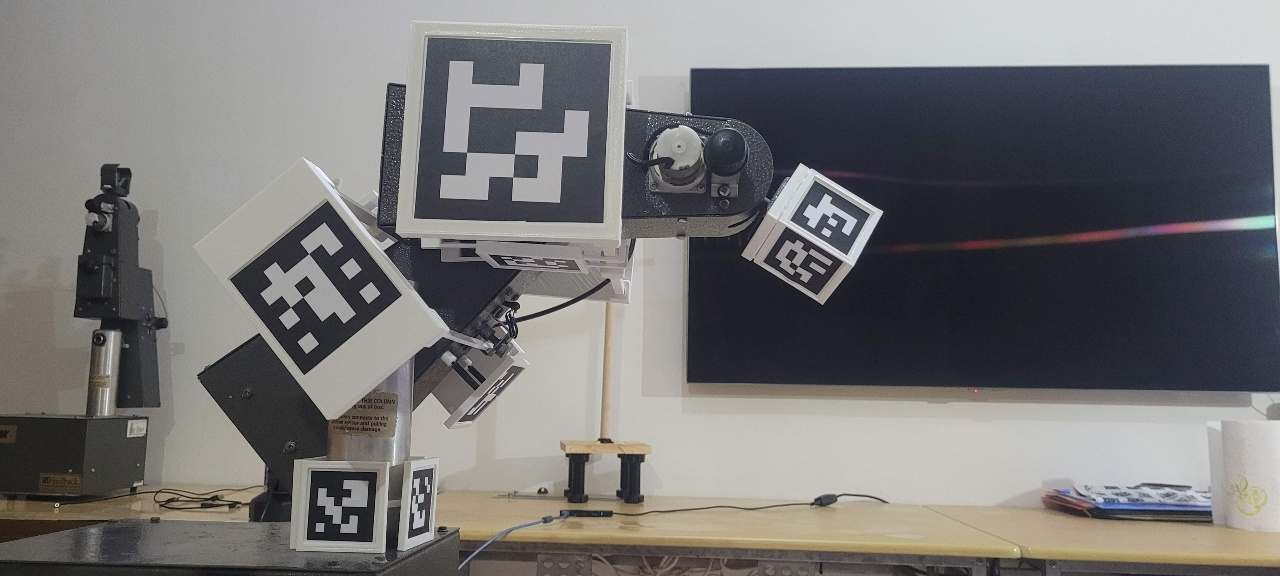Robot: (190, 16, 886, 553)
